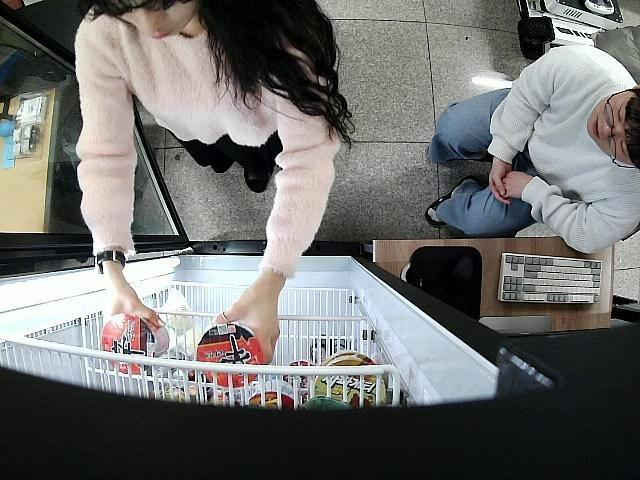02_shinRamen_S: (194, 324, 264, 390), (101, 314, 170, 375)
